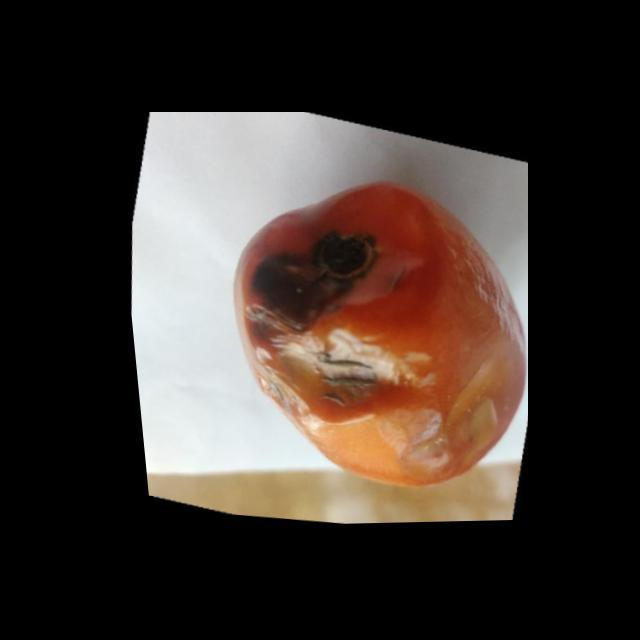tomato: (221, 171, 528, 495)
